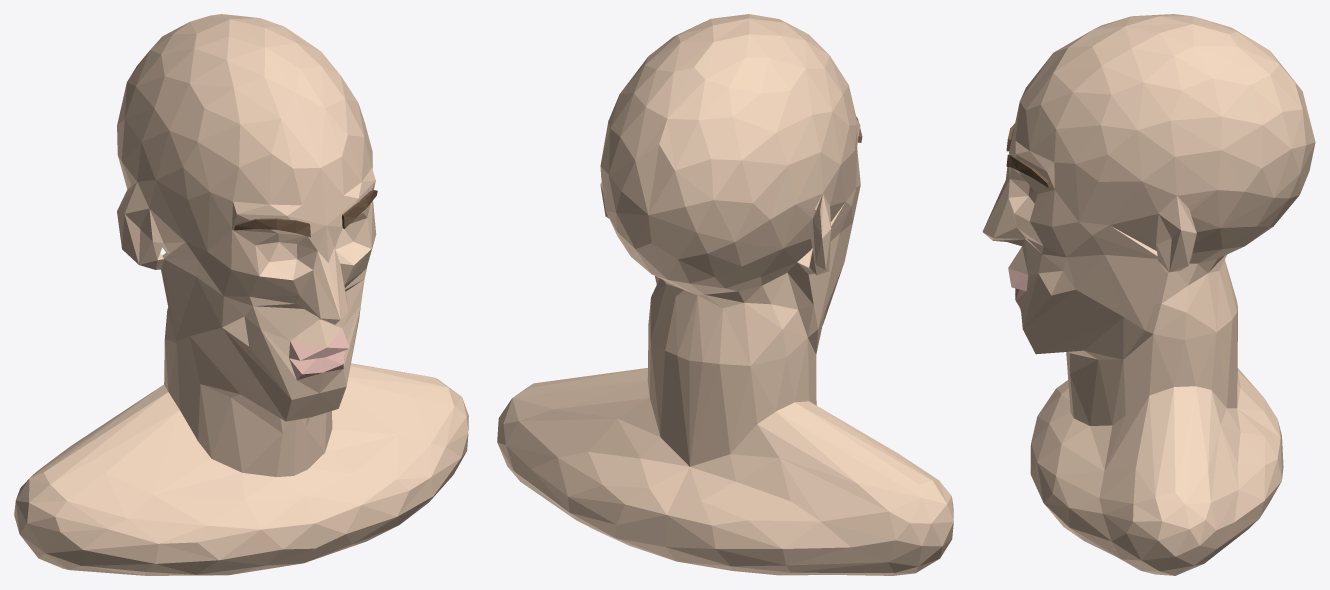
The model's file is sharp.glb.
3 renders of one model, left to right at view 1: azimuth 30°, elevation 25°; view 2: azimuth 150°, elevation 25°; view 3: azimuth 270°, elevation 25°, orthographic. The views are drawn at different scales.
Parts seen in each view (by area): view 1: Head_Main, Eyebrow_R; view 2: Head_Main; view 3: Head_Main, Eyebrow_L.
Part boxes in pixels (box(x1,y1,x2,y2)): Head_Main: box(14, 14, 468, 575); Eyebrow_R: box(234, 218, 310, 237); Head_Main: box(497, 14, 953, 575); Head_Main: box(982, 14, 1315, 575); Eyebrow_L: box(1006, 155, 1050, 187).
Bounding box in the file's own units: 0.3218 × 0.3414 × 0.2218.
